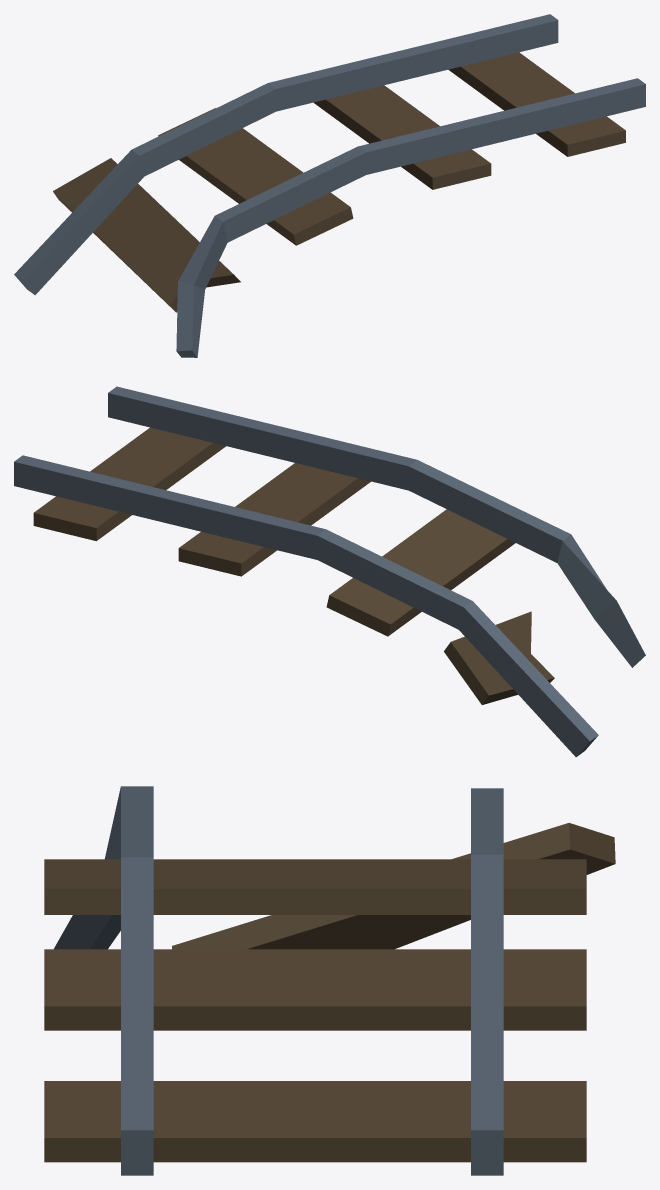
File: Rail-B03.fbx
The picture shows the model from 3 angles, top to bottom: view 1: azimuth 30°, elevation 25°; view 2: azimuth 150°, elevation 25°; view 3: azimuth 270°, elevation 25°; orthographic projection. The views are drawn at different scales.
Parts seen in each view (by area): view 1: Rail-B03; view 2: Rail-B03; view 3: Rail-B03.
Boxes of the visible parts, left/top/right/bottom form: Rail-B03: left=14, top=14, right=645, bottom=357; Rail-B03: left=14, top=386, right=645, bottom=757; Rail-B03: left=44, top=786, right=615, bottom=1175.
Size of the model in its own units: 449 by 122 by 207.
